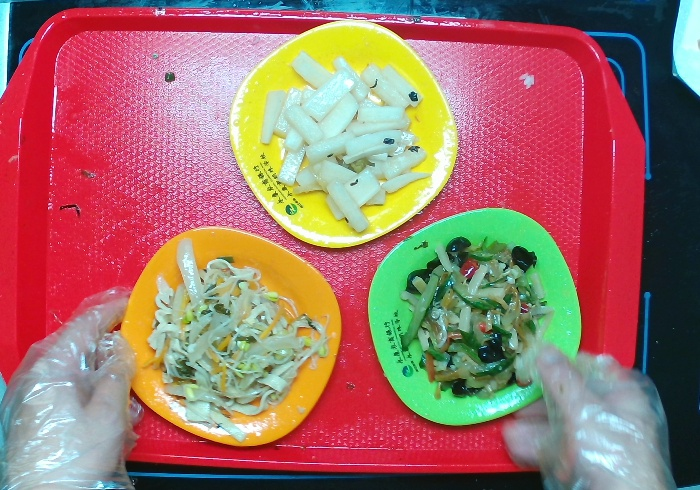YKMZ-Huang_Se_Fang_Die: (226, 17, 460, 250)
YKMZ-Ju_Se_Fang_Die: (118, 225, 343, 448)
YKMZ-Lv_Se_Fang_Die: (367, 206, 584, 428)
